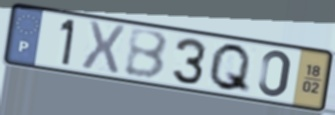0: (256, 49, 293, 99)
1: (57, 17, 77, 68)
3: (171, 36, 209, 87)
B: (123, 28, 171, 82)
Q: (205, 41, 254, 97)
X: (79, 18, 128, 76)
